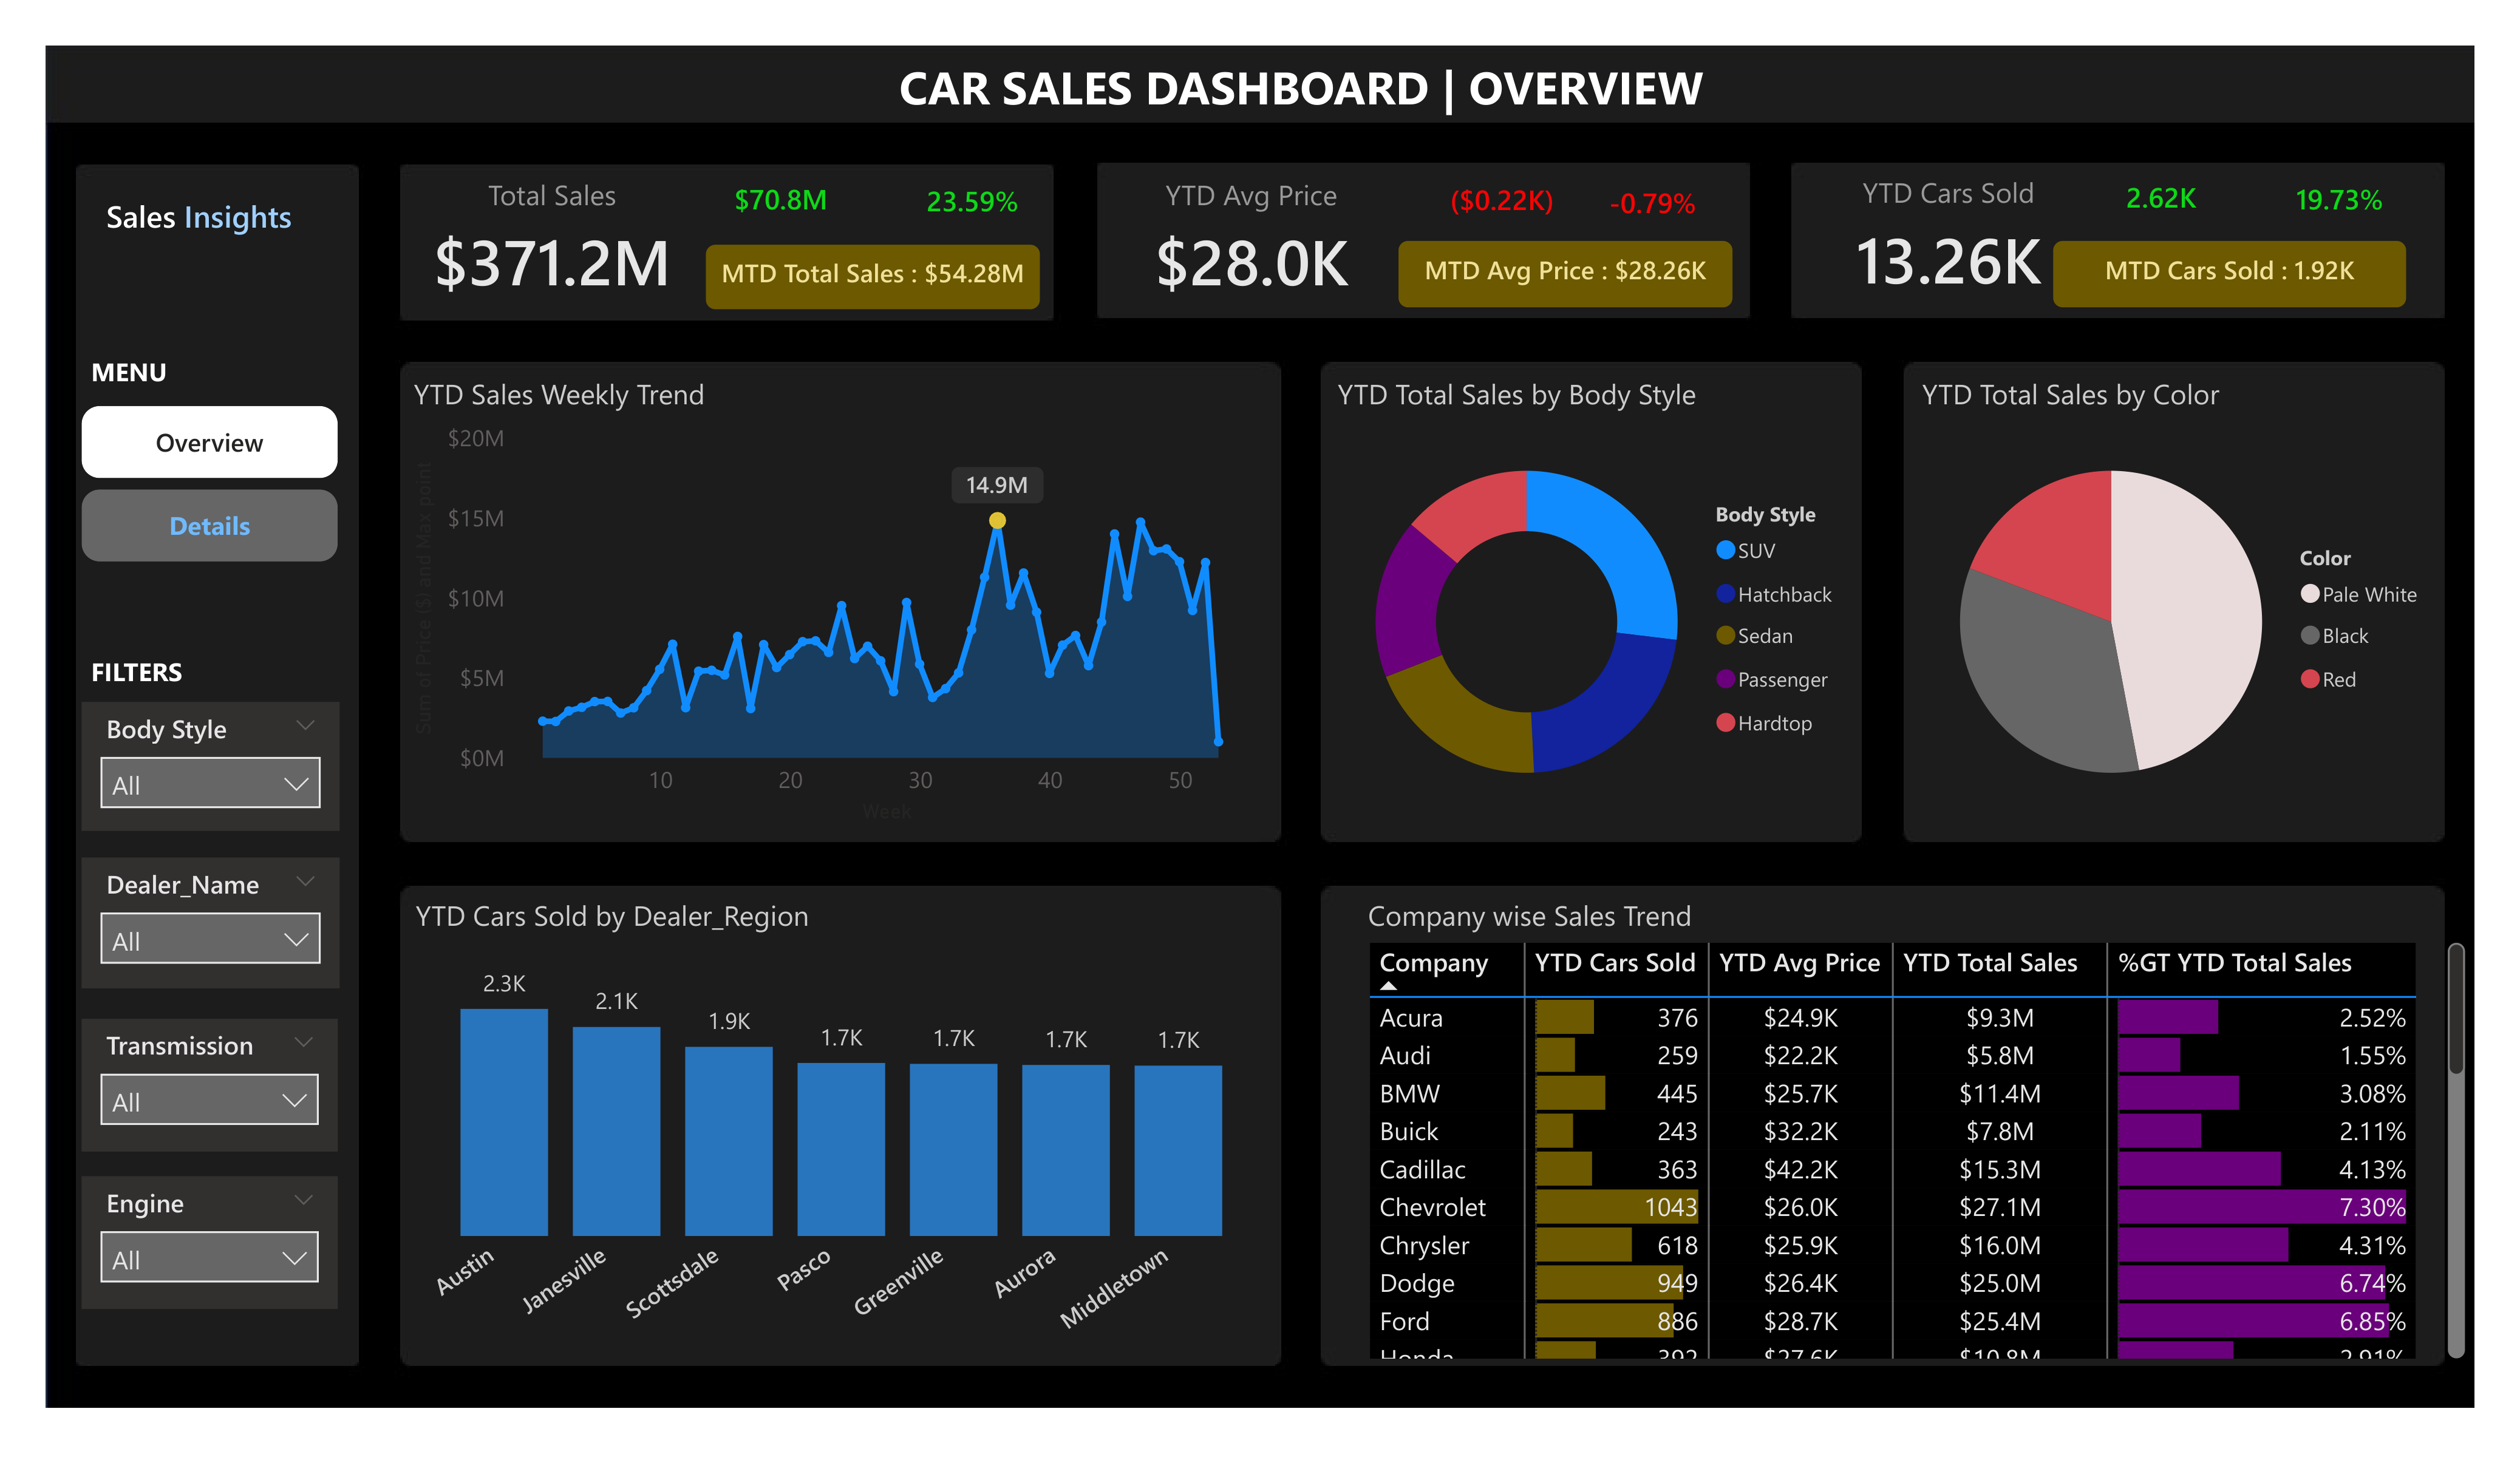

This screenshot's page, from the dashboard's own definition file:
{"tool":"powerbi","page":{"name":"Overview","canvas":[1280,720],"ordinal":0},"visuals":[{"type":"card","title":"Total Sales","fields":{"Values":["car_data.YTD Total Sales"]},"box":[190,67.6,154.3,71.4],"z":0},{"type":"card","fields":{"Values":["car_data.Sales difference"]},"box":[344.2,67.6,86.7,24.2],"z":1000},{"type":"card","fields":{"Values":["car_data.YOY Sales Growth"]},"box":[444.9,68.8,86.7,24.2],"z":2000},{"type":"card","fields":{"Values":["car_data.MTD KPI"]},"box":[348,104.5,175.9,34.4],"z":3000},{"type":"card","title":"YTD Avg Price","fields":{"Values":["car_data.YTD Avg Price"]},"box":[558.4,67.6,154.3,71.4],"z":4000},{"type":"card","fields":{"Values":["car_data.Avg Price Diff"]},"box":[732.2,69.3,70.5,24.3],"z":5000},{"type":"card","fields":{"Values":["car_data.YOY Avg Price Growth"]},"box":[812.2,69.7,69.7,24.1],"z":6000},{"type":"card","fields":{"Values":["car_data.MTD Avg Price KPI"]},"box":[713,103.2,175.6,34.8],"z":7000},{"type":"card","title":"YTD Cars Sold","fields":{"Values":["car_data.YTD Cars Sold"]},"box":[926.2,67,154.1,71],"z":8000},{"type":"card","fields":{"Values":["car_data.Car Sold Diff"]},"box":[1080.3,67,69.7,24.1],"z":9000},{"type":"card","fields":{"Values":["car_data.YOY Car Sold Group"]},"box":[1174.1,68.4,69.7,24.1],"z":10000},{"type":"card","fields":{"Values":["car_data.MTD Cars Sold KPI"]},"box":[1057.5,103.2,186.3,34.8],"z":11000},{"type":"areaChart","title":"YTD Sales Weekly Trend","fields":{"Category":["Calender Table.Week"],"Y":["Sum(car_data.Price ($))","car_data.Max point"]},"box":[188.6,173.1,451.4,241.2],"z":12000},{"type":"donutChart","fields":{"Category":["car_data.Body Style"],"Y":["car_data.YTD Total Sales"]},"box":[675.8,173.2,280.1,240.8],"z":13000},{"type":"pieChart","fields":{"Category":["car_data.Color"],"Y":["car_data.YTD Total Sales"]},"box":[984.2,173.2,280.1,240.8],"z":14000},{"type":"columnChart","fields":{"Category":["car_data.Dealer_Region"],"Y":["car_data.YTD Cars Sold"]},"box":[190.3,447.7,459.7,249.3],"z":15000},{"type":"tableEx","title":"Company wise Sales Trend","fields":{"Values":["car_data.Company","car_data.YTD Cars Sold","car_data.YTD Avg Price","car_data.YTD Total Sales1","car_data.YTD Total Sales"]},"box":[691.6,447.7,588.4,249.3],"z":16000},{"type":"textbox","box":[445,0,461.1,46.9],"z":17000},{"type":"slicer","fields":{"Values":["car_data.Body Style"]},"box":[18.8,345.8,136.7,68.4],"z":18000},{"type":"slicer","fields":{"Values":["car_data.Dealer_Name"]},"box":[18.8,427.6,136.7,69.7],"z":19000},{"type":"slicer","fields":{"Values":["car_data.Transmission"]},"box":[18.8,513.3,135.4,69.7],"z":20000},{"type":"slicer","fields":{"Values":["car_data.Engine"]},"box":[18.8,596.4,135.4,69.7],"z":21000},{"type":"textbox","box":[18.8,158.2,61.7,29.5],"z":22000},{"type":"textbox","box":[18.8,316.3,71,29.5],"z":23000},{"type":"textbox","box":[26.8,73.7,122,34.8],"z":24000},{"type":"pageNavigator","box":[18.8,190.3,135.4,81.8],"z":25000}]}

Visuals, with their boxes on the page's 1280x720 design canvas (x1, y1, x2, y2). These are canvas units, not pixel positions in the 2520x1457 screenshot, which may show the page scaled, cropped or inside an application window:
"Total Sales" card: (x1=190, y1=68, x2=344, y2=139)
card - car_data.Sales difference: (x1=344, y1=68, x2=431, y2=92)
card - car_data.YOY Sales Growth: (x1=445, y1=69, x2=532, y2=93)
card - car_data.MTD KPI: (x1=348, y1=104, x2=524, y2=139)
"YTD Avg Price" card: (x1=558, y1=68, x2=713, y2=139)
card - car_data.Avg Price Diff: (x1=732, y1=69, x2=803, y2=94)
card - car_data.YOY Avg Price Growth: (x1=812, y1=70, x2=882, y2=94)
card - car_data.MTD Avg Price KPI: (x1=713, y1=103, x2=889, y2=138)
"YTD Cars Sold" card: (x1=926, y1=67, x2=1080, y2=138)
card - car_data.Car Sold Diff: (x1=1080, y1=67, x2=1150, y2=91)
card - car_data.YOY Car Sold Group: (x1=1174, y1=68, x2=1244, y2=92)
card - car_data.MTD Cars Sold KPI: (x1=1058, y1=103, x2=1244, y2=138)
"YTD Sales Weekly Trend" areaChart: (x1=189, y1=173, x2=640, y2=414)
donutChart - car_data.Body Style x car_data.YTD Total Sales: (x1=676, y1=173, x2=956, y2=414)
pieChart - car_data.Color x car_data.YTD Total Sales: (x1=984, y1=173, x2=1264, y2=414)
columnChart - car_data.Dealer_Region x car_data.YTD Cars Sold: (x1=190, y1=448, x2=650, y2=697)
"Company wise Sales Trend" tableEx: (x1=692, y1=448, x2=1280, y2=697)
textbox: (x1=445, y1=0, x2=906, y2=47)
slicer - car_data.Body Style: (x1=19, y1=346, x2=156, y2=414)
slicer - car_data.Dealer_Name: (x1=19, y1=428, x2=156, y2=497)
slicer - car_data.Transmission: (x1=19, y1=513, x2=154, y2=583)
slicer - car_data.Engine: (x1=19, y1=596, x2=154, y2=666)
textbox: (x1=19, y1=158, x2=80, y2=188)
textbox: (x1=19, y1=316, x2=90, y2=346)
textbox: (x1=27, y1=74, x2=149, y2=108)
pageNavigator: (x1=19, y1=190, x2=154, y2=272)
